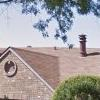Chimney: (72, 27, 95, 56)
